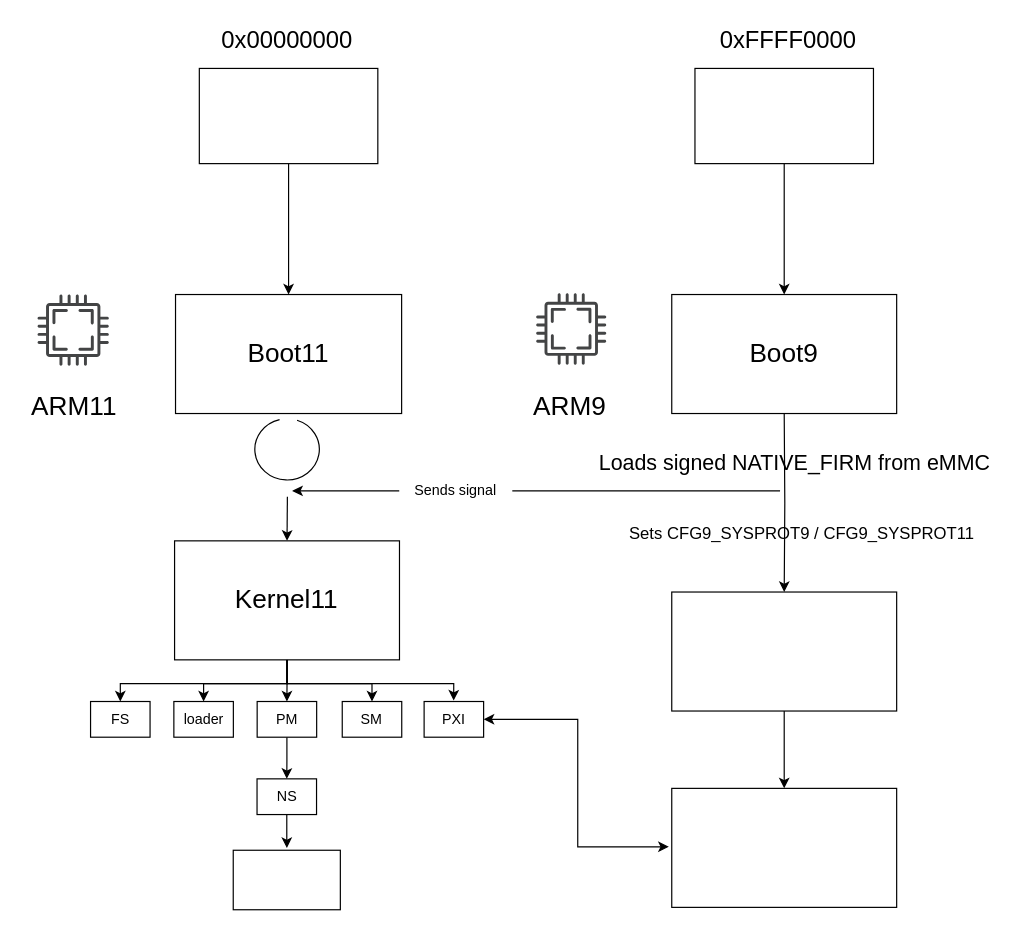
Image size: 1010x931. Some labels were removed from this diagram. The shapes that lost their labels are listed below. From the top down, each one's box as (x1, y1, x2, y2) in pixels, then its label:
(198, 67, 378, 164): Bootrom ARM11
(694, 67, 873, 164): Bootrom ARM9
(671, 591, 897, 711): Kernel9
(671, 787, 897, 907): Process9
(232, 849, 340, 910): Home Menu
